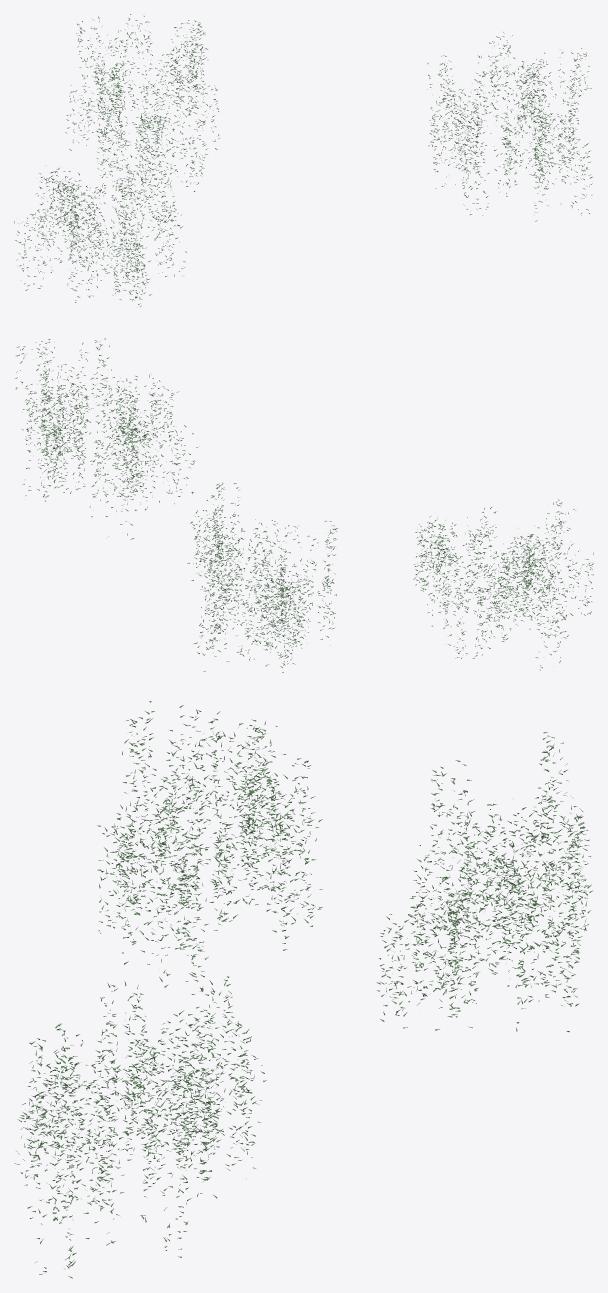
Rendered from xiyuan-vegetation-11-medium.glb.
3 renders of one model, top to bottom at view 1: azimuth 30°, elevation 25°; view 2: azimuth 150°, elevation 25°; view 3: azimuth 270°, elevation 25°, orthographic. The views are drawn at different scales.
Parts seen in each view (by area): view 1: vegetation willow leaves; view 2: vegetation willow leaves; view 3: vegetation willow leaves.
Part boxes in pixels (x1,y1,x2,y2): vegetation willow leaves: (14, 14, 592, 306); vegetation willow leaves: (15, 338, 593, 672); vegetation willow leaves: (14, 701, 593, 1278).
Size of the model in its own units: 28.61 by 8.86 by 16.34.
